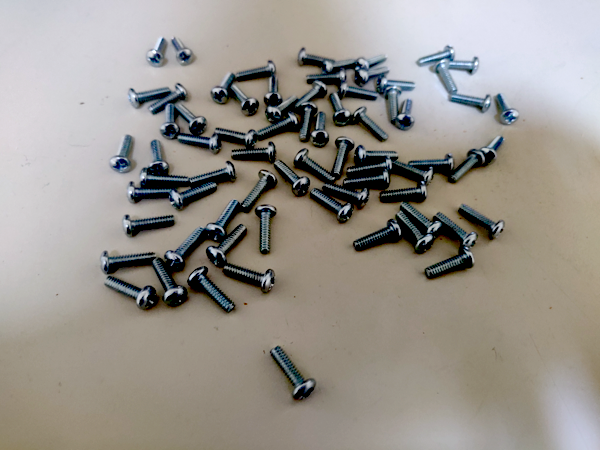shortscrew: (270, 345, 316, 400), (188, 267, 236, 314), (164, 227, 208, 270), (104, 276, 157, 311), (206, 224, 249, 267), (458, 203, 506, 240), (434, 212, 478, 251), (152, 258, 187, 307), (239, 170, 278, 212), (396, 210, 434, 253), (424, 247, 475, 279), (223, 264, 277, 294), (400, 202, 442, 239), (310, 188, 354, 223), (353, 220, 402, 251), (206, 199, 241, 242), (294, 149, 336, 184), (169, 182, 219, 211), (100, 251, 156, 276), (274, 160, 311, 197), (351, 107, 389, 143), (322, 183, 370, 210), (449, 149, 486, 184), (148, 84, 189, 115), (189, 161, 236, 188), (122, 215, 176, 238), (257, 112, 299, 141), (293, 80, 329, 111), (256, 203, 277, 255), (379, 181, 428, 203), (176, 103, 208, 136), (139, 168, 189, 189), (391, 161, 435, 184), (347, 156, 393, 178), (129, 86, 171, 110), (229, 84, 259, 117), (127, 181, 170, 204), (343, 169, 390, 190), (178, 132, 222, 154), (265, 96, 299, 124), (333, 137, 355, 180), (232, 142, 277, 162), (434, 59, 459, 95), (109, 135, 132, 174), (235, 60, 277, 81), (409, 153, 454, 172), (496, 93, 521, 127), (211, 71, 236, 105), (450, 93, 492, 113), (216, 128, 258, 148), (355, 145, 399, 164), (339, 82, 379, 102), (418, 46, 456, 67), (298, 102, 318, 141), (148, 140, 169, 176), (330, 92, 352, 126), (310, 112, 330, 148), (160, 104, 180, 139), (481, 135, 505, 164), (170, 37, 194, 65), (355, 67, 390, 86), (306, 68, 347, 84), (298, 48, 336, 65), (395, 99, 415, 131), (377, 76, 417, 92), (147, 37, 167, 68), (448, 56, 480, 75), (356, 54, 388, 72), (265, 77, 283, 107), (323, 58, 356, 74)
